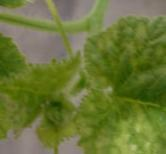Tomato leaf mosaic virus: (82, 20, 166, 154)
